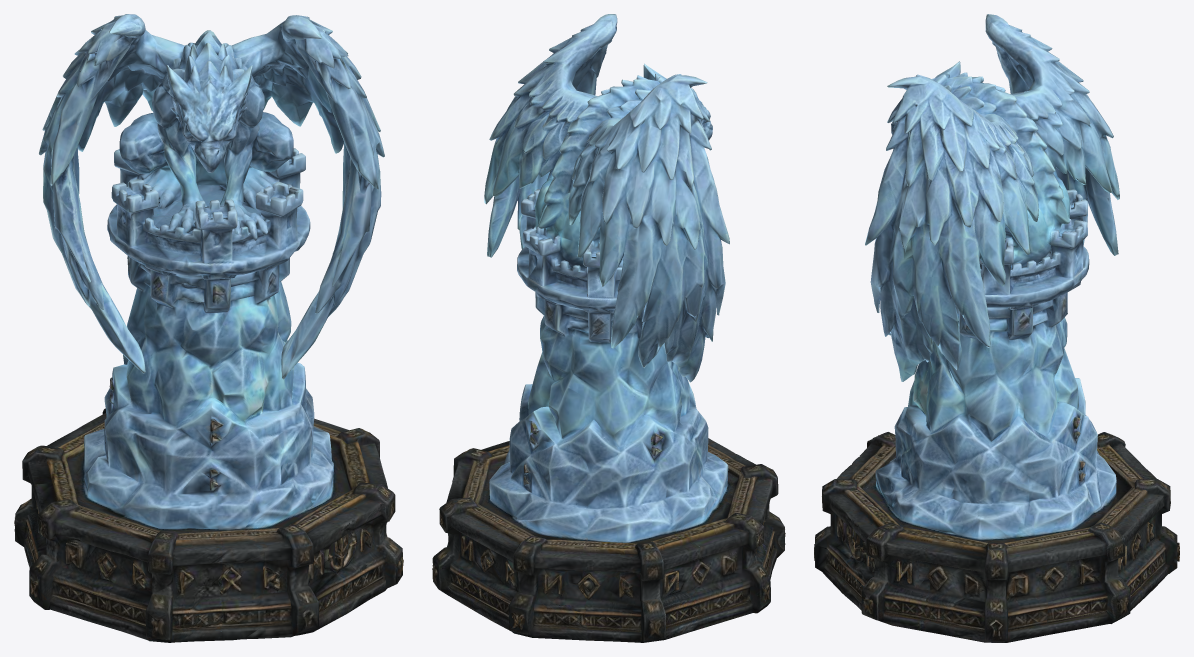
File: gargula_branco.glb
3 views of the same model, side by side, from view 1: azimuth 30°, elevation 25°; view 2: azimuth 150°, elevation 25°; view 3: azimuth 270°, elevation 25° (orthographic). The views are drawn at different scales.
Visible parts, largest first — view 1: tripo_node_671e965b-d2a1-49e6-afa2-f40ead70aae2; view 2: tripo_node_671e965b-d2a1-49e6-afa2-f40ead70aae2; view 3: tripo_node_671e965b-d2a1-49e6-afa2-f40ead70aae2.
Part boxes in pixels (x1,y1,x2,y2): tripo_node_671e965b-d2a1-49e6-afa2-f40ead70aae2: (14, 14, 403, 642); tripo_node_671e965b-d2a1-49e6-afa2-f40ead70aae2: (432, 14, 785, 642); tripo_node_671e965b-d2a1-49e6-afa2-f40ead70aae2: (814, 14, 1179, 642).
Size of the model in its own units: 0.6299 by 0.9788 by 0.6295.
Materials: 1 (1 with a texture image).
